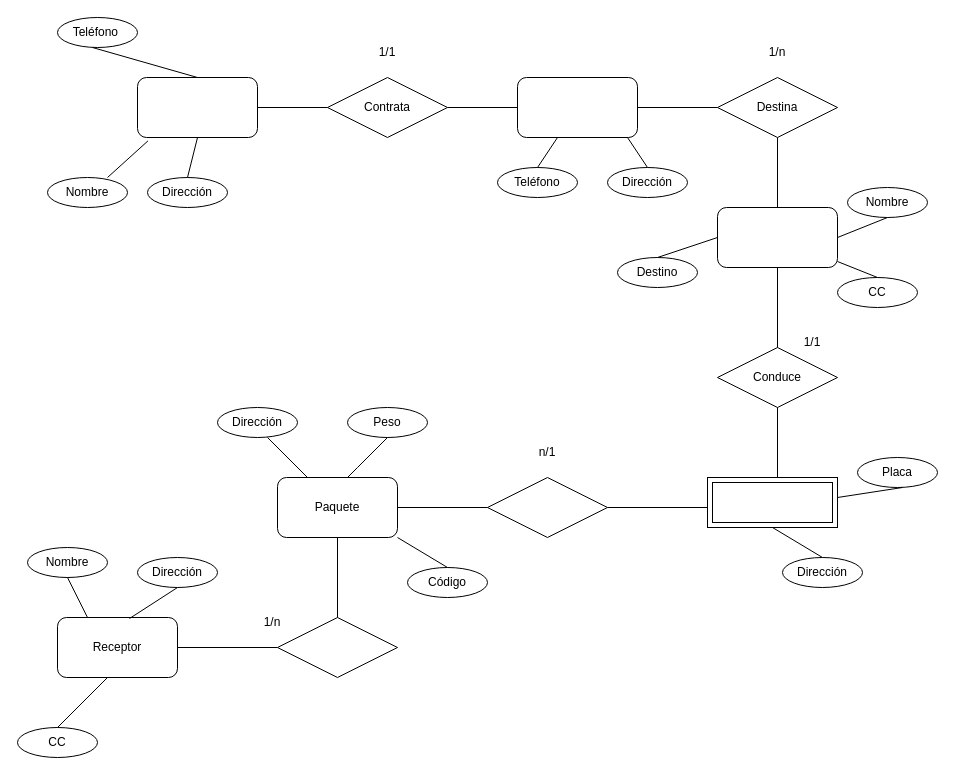
The diagram is 955 pixels wide and 775 high, and some of its shapes have lost their labels. Each missing label, with the box of its shape:
Camión: (706, 476, 838, 528)
Conductor: (716, 206, 838, 268)
Distribuye: (486, 476, 608, 538)
Emisor: (136, 76, 258, 138)
Empresa de mensajería: (516, 76, 638, 138)
Se entrega: (276, 616, 398, 678)
